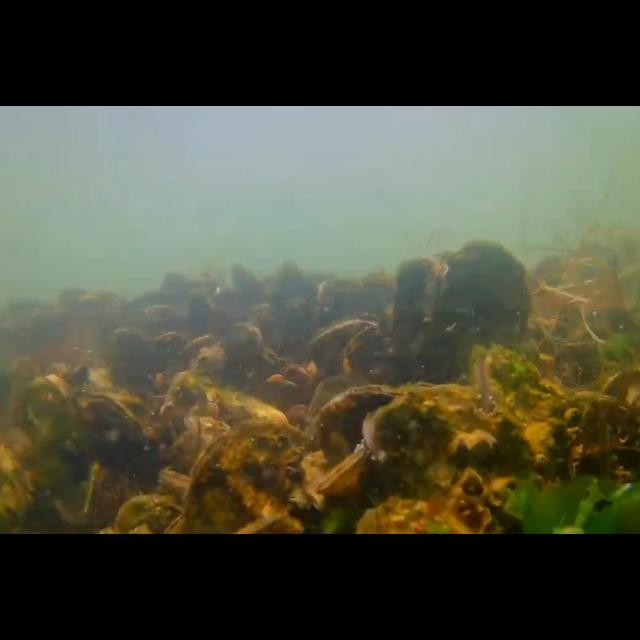Oyster-Closed: (307, 381, 435, 535), (0, 376, 96, 534), (183, 422, 317, 534), (439, 240, 531, 388), (83, 393, 167, 535), (558, 392, 640, 534), (391, 256, 449, 374), (162, 371, 208, 432), (230, 390, 288, 422)
Oyster-Open: (362, 385, 538, 535), (466, 343, 572, 535), (309, 317, 379, 378), (318, 445, 370, 495), (159, 467, 193, 503)
